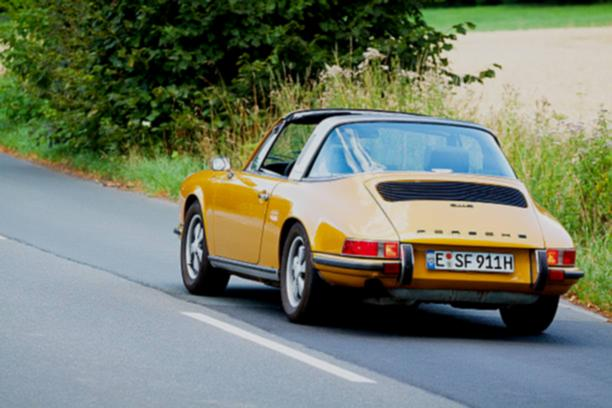porsche: (408, 223, 533, 244)
